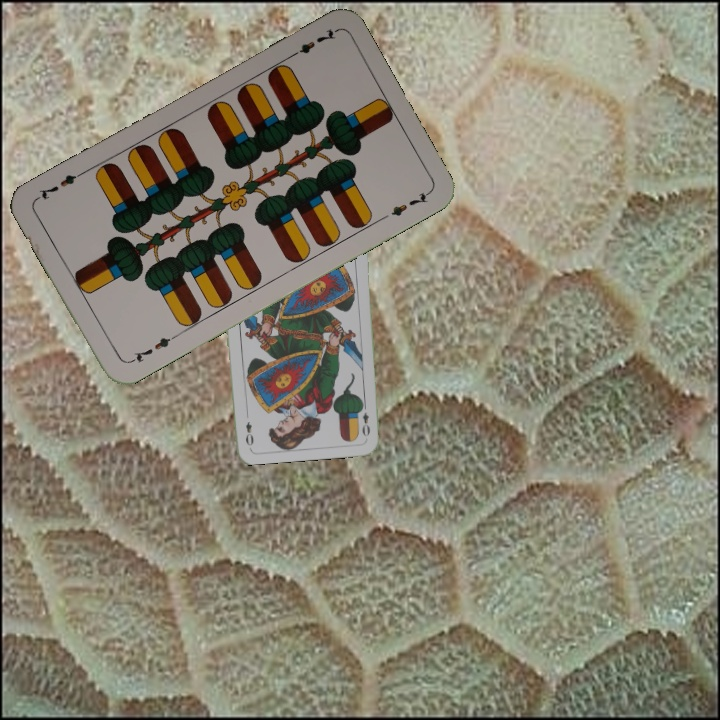E7: (124, 331, 179, 367), (285, 25, 339, 61)
EO: (356, 399, 373, 439)
